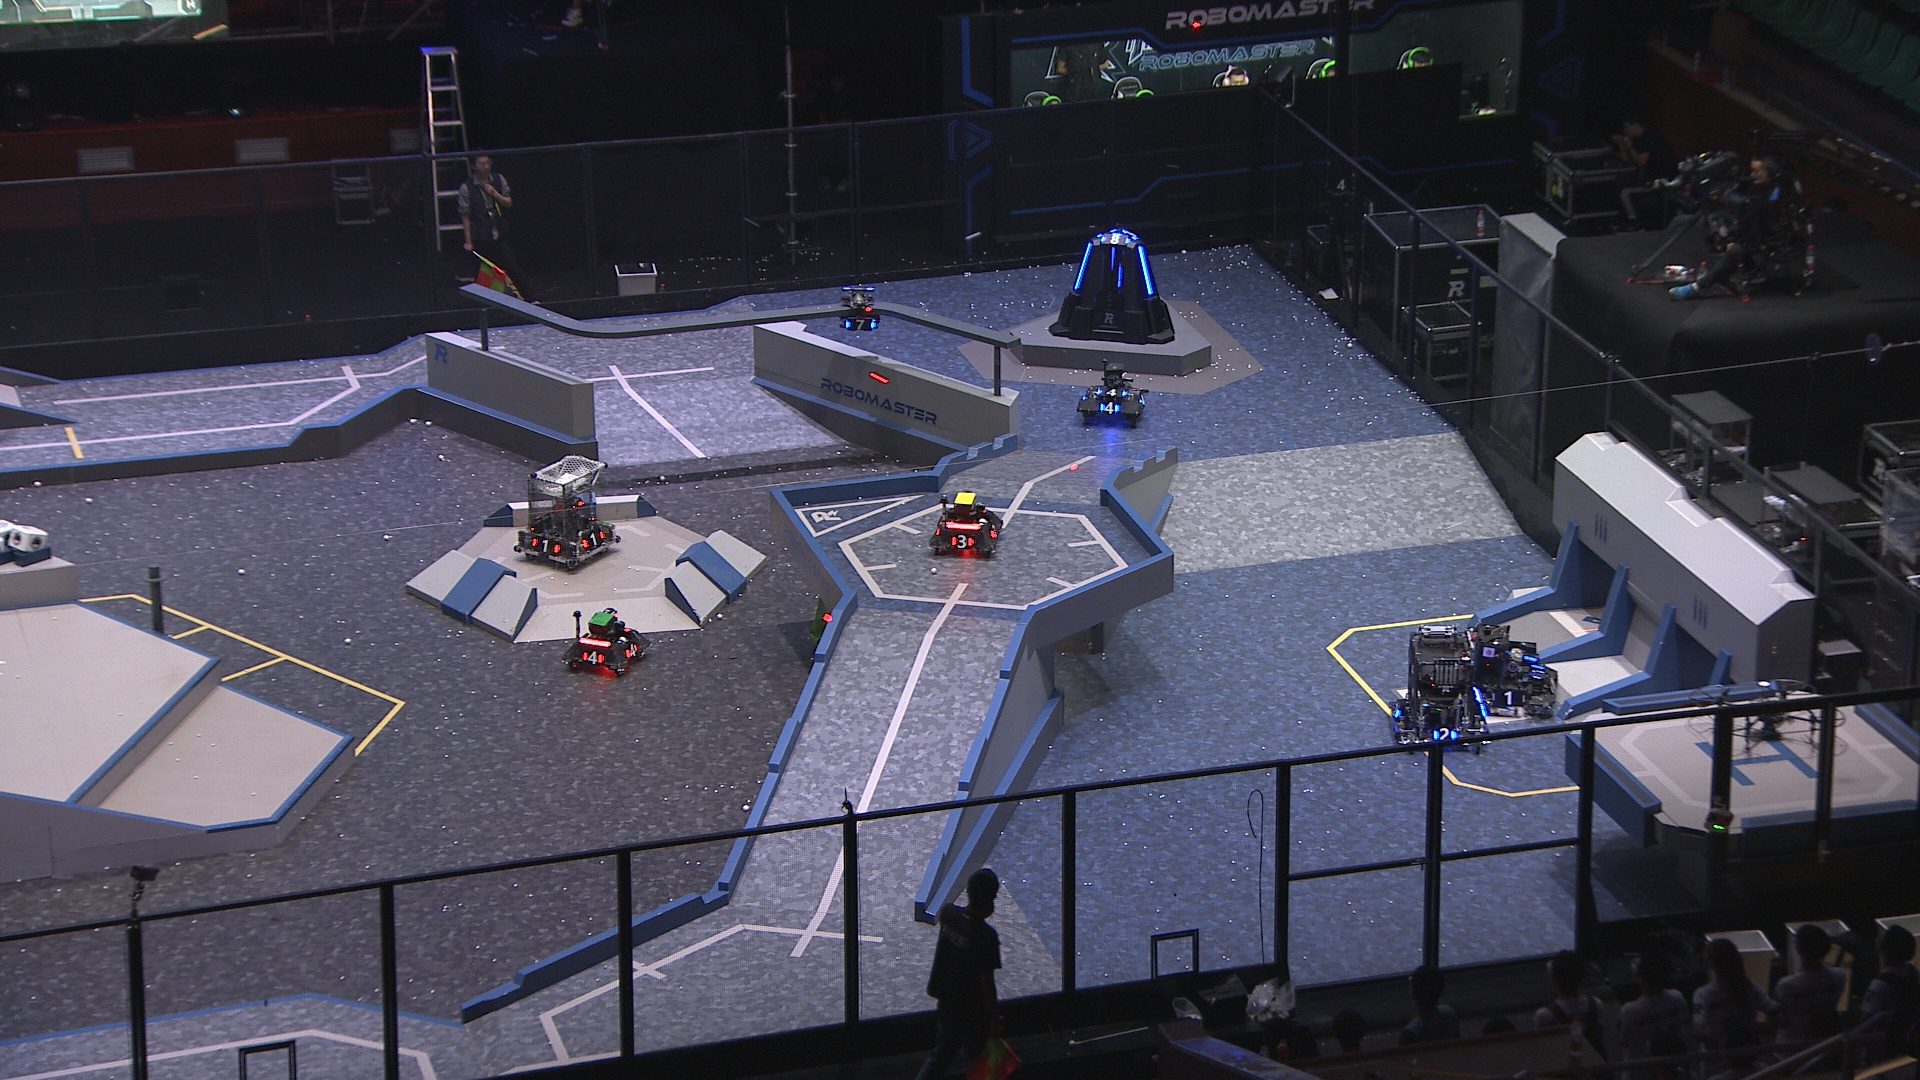armor: (1072, 237, 1095, 291), (1135, 244, 1155, 295), (1489, 688, 1527, 708), (531, 535, 562, 555), (579, 529, 607, 547), (1096, 400, 1122, 418), (844, 318, 877, 332), (1095, 386, 1130, 400), (949, 531, 975, 550), (580, 647, 607, 665), (1429, 727, 1458, 741), (1101, 233, 1133, 245), (622, 640, 640, 659), (1531, 662, 1545, 683), (989, 518, 1002, 541), (1109, 244, 1120, 272), (1545, 676, 1557, 692)
base: (1048, 228, 1176, 343)
car: (508, 454, 622, 570), (1391, 622, 1494, 752), (1462, 618, 1563, 717), (564, 604, 651, 679), (930, 489, 1004, 560), (1076, 360, 1150, 429)
watcher: (837, 284, 884, 334)
